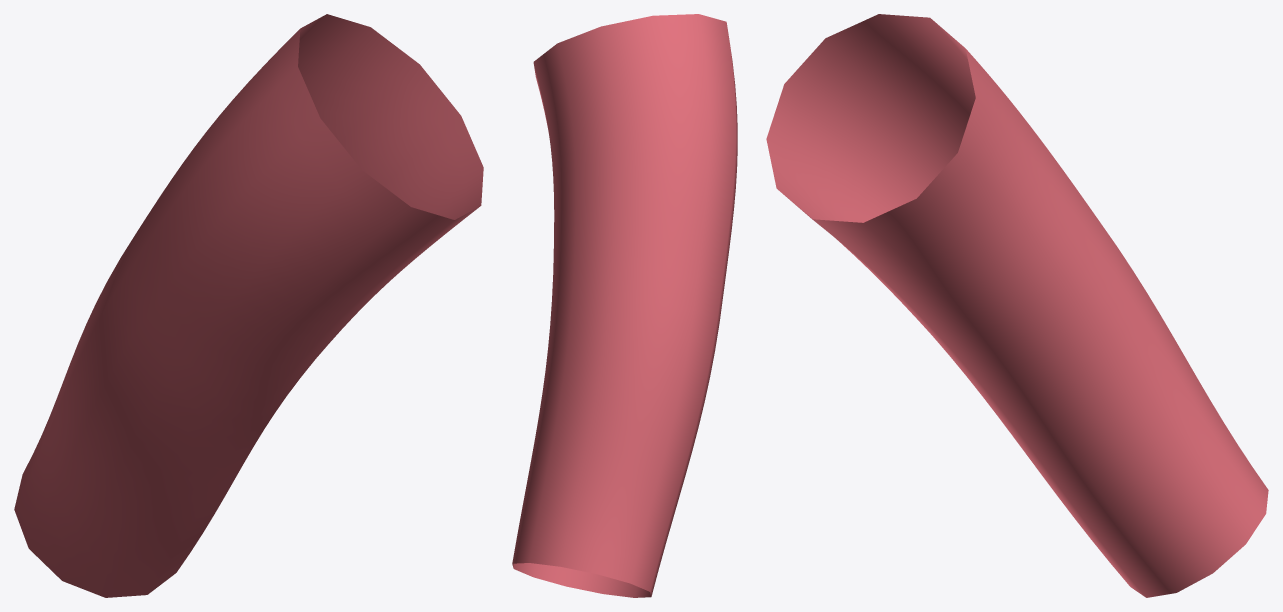
3 renders of one model, left to right at view 1: azimuth 30°, elevation 25°; view 2: azimuth 150°, elevation 25°; view 3: azimuth 270°, elevation 25°, orthographic. The views are drawn at different scales.
Visible parts, largest first — view 1: ZA_e24d927b6bd39888; view 2: ZA_e24d927b6bd39888; view 3: ZA_e24d927b6bd39888.
Boxes of the visible parts, x1,y1,x2,y2 form: ZA_e24d927b6bd39888: [14, 14, 483, 597]; ZA_e24d927b6bd39888: [512, 14, 737, 597]; ZA_e24d927b6bd39888: [766, 14, 1268, 597].
Size of the model in its own units: 0.0182 by 0.0383 by 0.0296.
